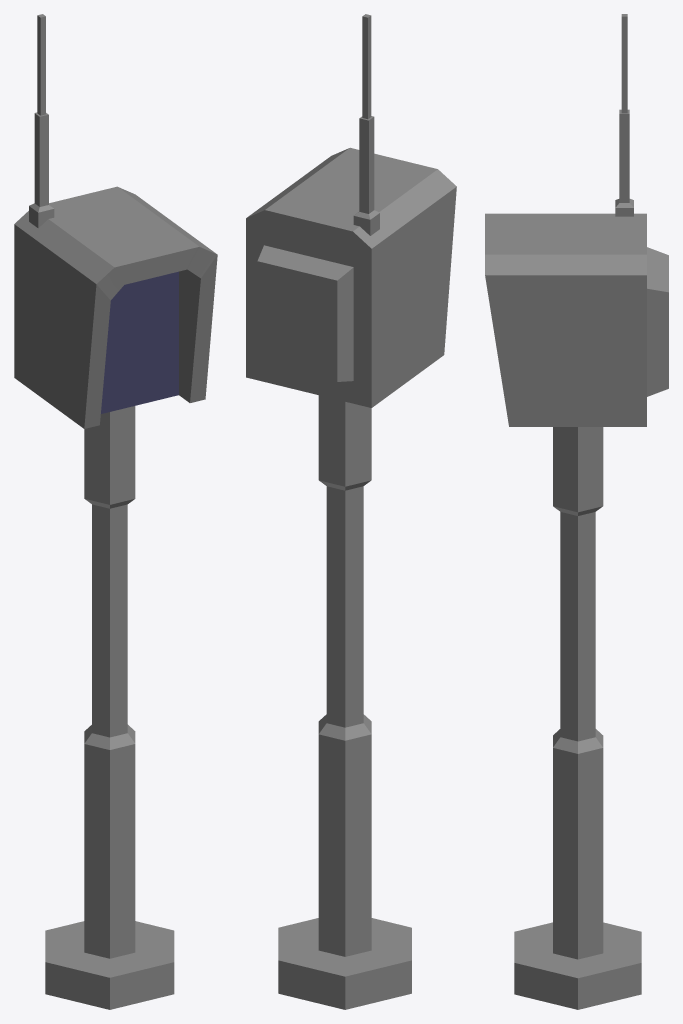
File: prop_meter_01.fbx
3 renders of one model, left to right at view 1: azimuth 30°, elevation 25°; view 2: azimuth 150°, elevation 25°; view 3: azimuth 270°, elevation 25°, orthographic. The views are drawn at different scales.
Parts seen in each view (by area): view 1: SM_Prop_Meter_01; view 2: SM_Prop_Meter_01; view 3: SM_Prop_Meter_01.
Boxes of the visible parts, <box> form: SM_Prop_Meter_01: <box>14,14,217,1009</box>; SM_Prop_Meter_01: <box>246,14,456,1009</box>; SM_Prop_Meter_01: <box>485,14,668,1009</box>.
Size of the model in its own units: 24.85 by 176 by 31.1.
